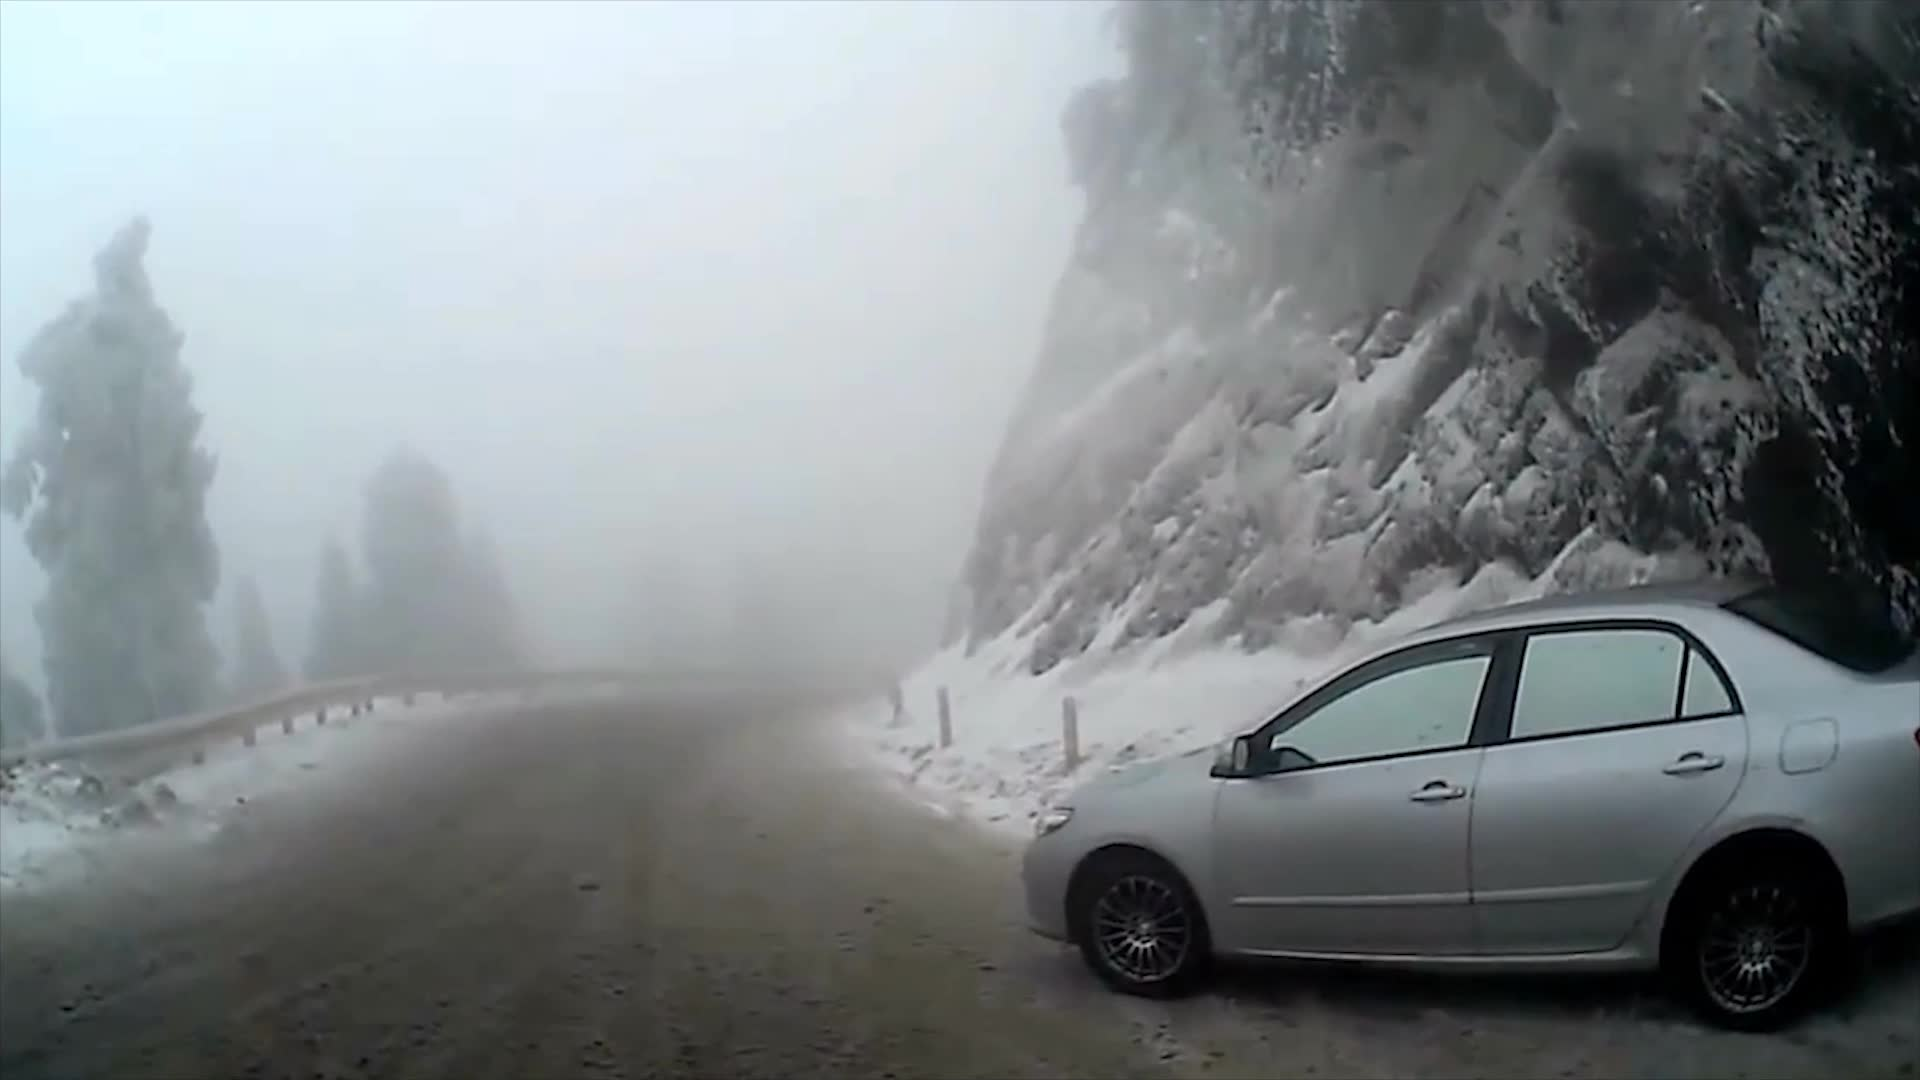vehicle: (1023, 582, 1920, 1043)
